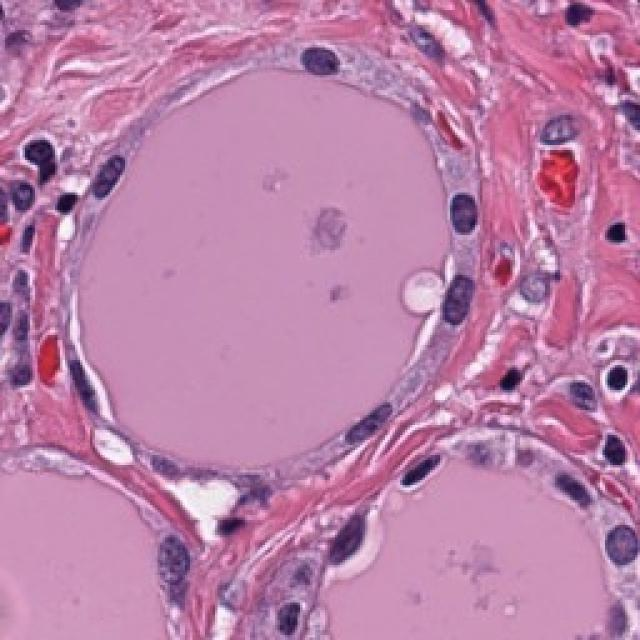normal: (326, 378, 407, 486), (50, 120, 142, 211), (44, 335, 122, 425), (410, 254, 491, 339), (422, 180, 499, 264), (589, 497, 639, 584), (283, 43, 353, 99), (148, 522, 194, 602), (57, 395, 63, 396)
